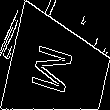M_E: (33, 40, 84, 98)
